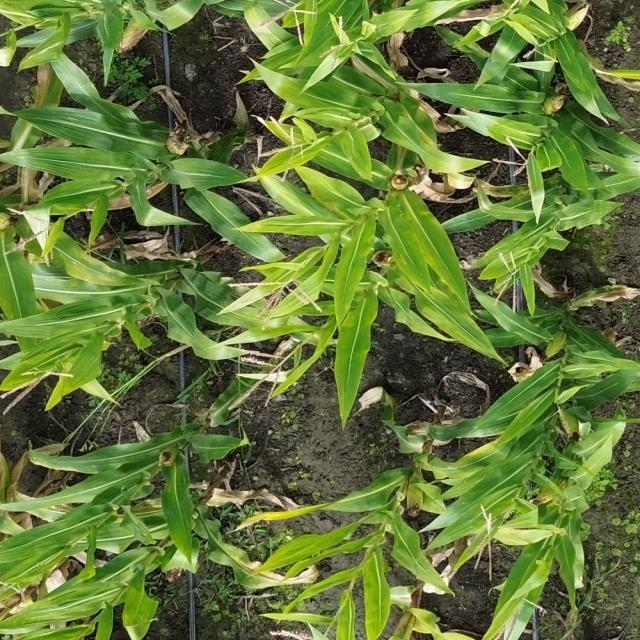gray-leaf-spot: (62, 249, 111, 282), (39, 454, 111, 472), (162, 297, 194, 336), (568, 542, 586, 587), (524, 179, 560, 199), (6, 146, 36, 165), (534, 64, 553, 89)
northern-leaf-blight: (224, 550, 276, 591), (354, 59, 398, 88)
southern-leaf-blight: (61, 73, 101, 104), (17, 601, 60, 625), (493, 237, 525, 256), (582, 197, 606, 218), (475, 306, 495, 324)
